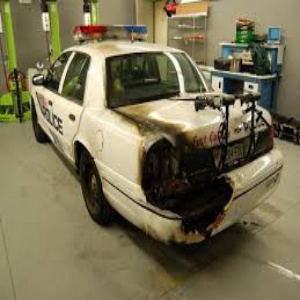bumper: (147, 176, 240, 247)
